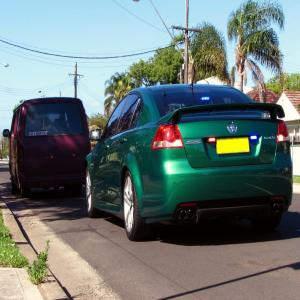Vehicle-registration-plate: (216, 136, 251, 156)
